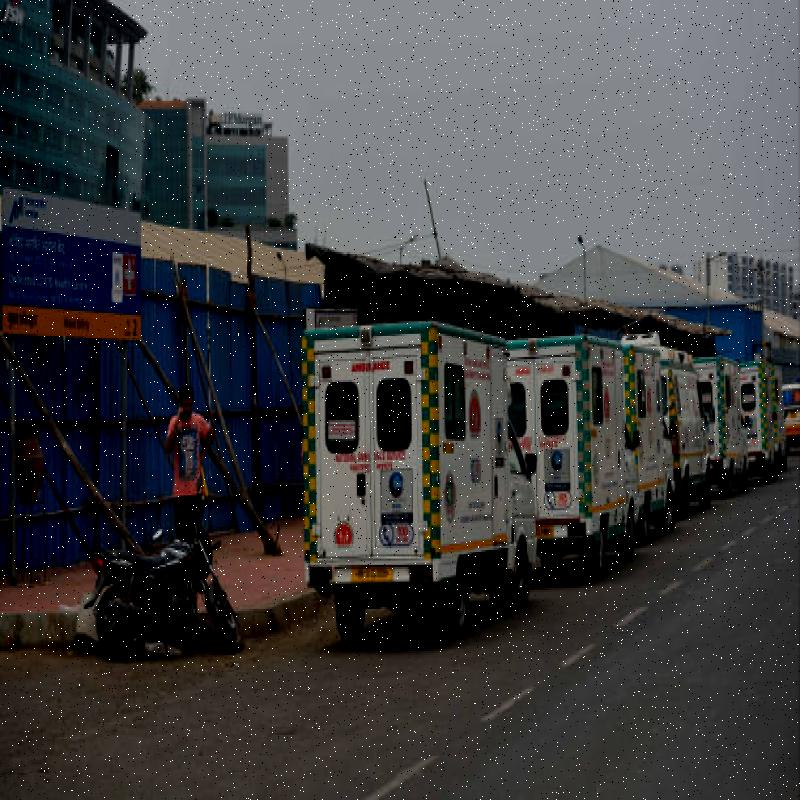ambulance: (303, 333, 523, 635), (535, 334, 638, 574), (660, 365, 714, 508)
